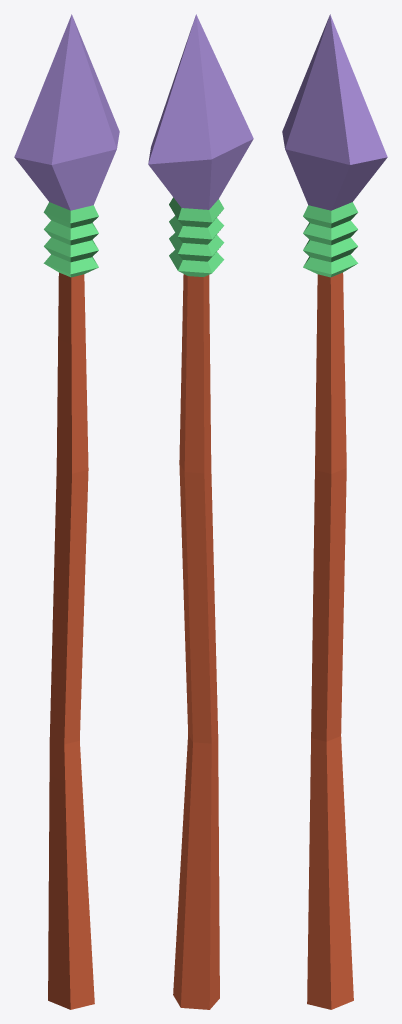
File: Spear.fbx
3 views of the same model, side by side, from view 1: azimuth 30°, elevation 25°; view 2: azimuth 210°, elevation 25°; view 3: azimuth 330°, elevation 25° (orthographic).
Visible parts, largest first — view 1: Spear; view 2: Spear; view 3: Spear.
Part boxes in pixels (x1,y1,x2,y2): Spear: (14,14,119,1009); Spear: (148,14,253,1009); Spear: (282,14,387,1009).
Size of the model in its own units: 0.1957 by 1.75 by 0.0935.
